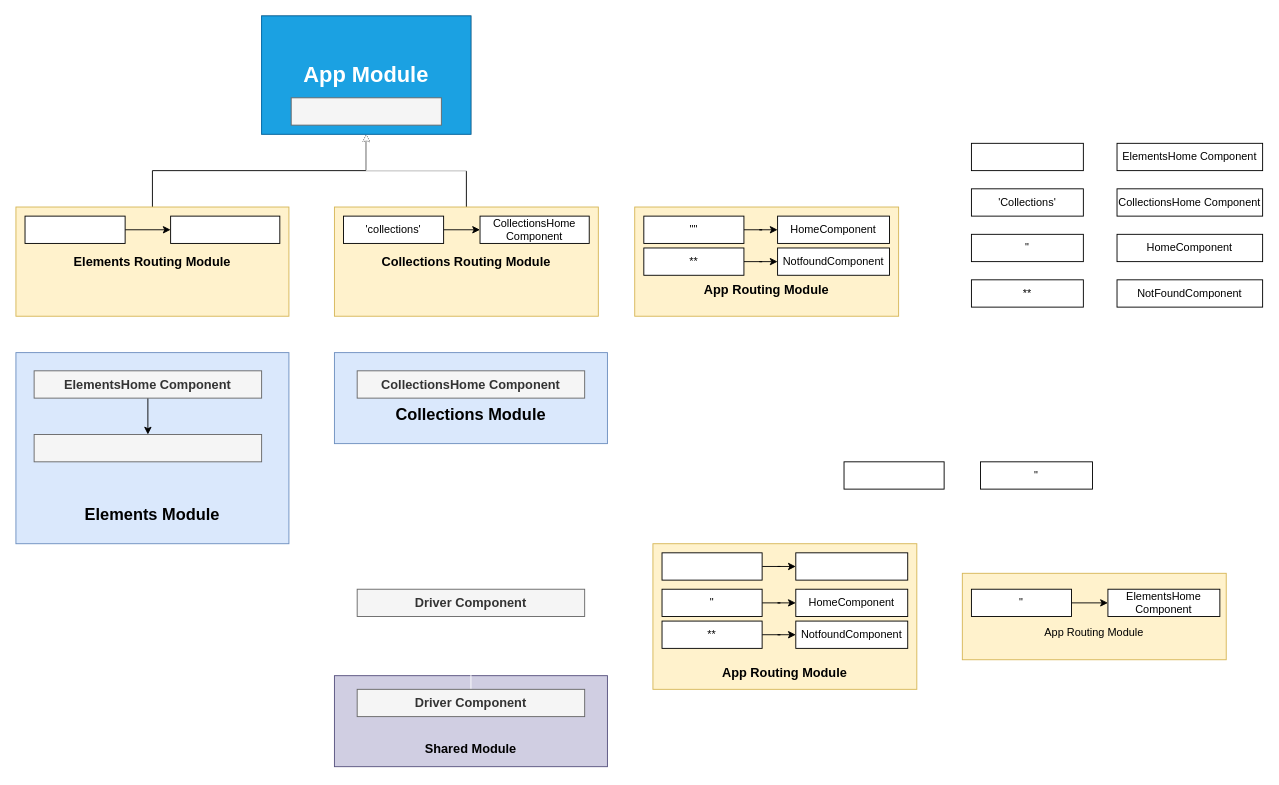
Some shapes in this 1279 by 785 pixel diagram are drawn without their labels. Here are the shapes that lost their labels. From the top down, the centre of each, then its label:
At point 365,111: "App component".
At point 1027,156: "'Elements'".
At point 74,229: "'element'".
At point 225,229: "ElementHome Component".
At point 147,448: "Placeholder Component".
At point 893,475: "Element/".
At point 711,566: "elements".
At point 851,566: "Load ElementsModule".
